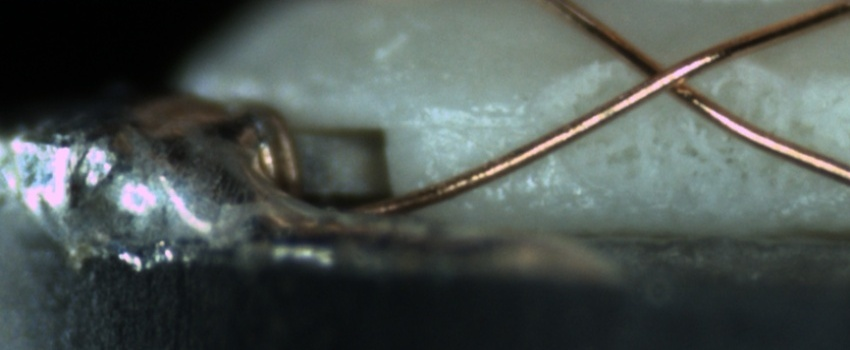CL: (613, 38, 715, 112)
DL: (410, 92, 544, 158)
TE: (232, 91, 312, 205)
